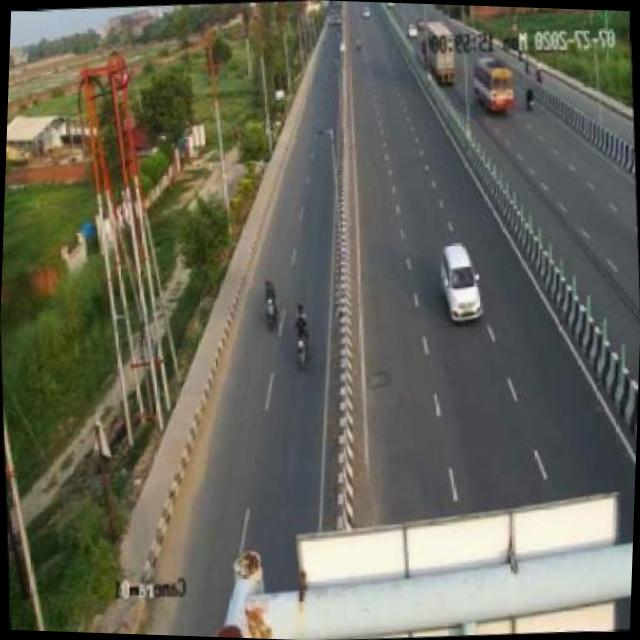car: (437, 241, 484, 326)
